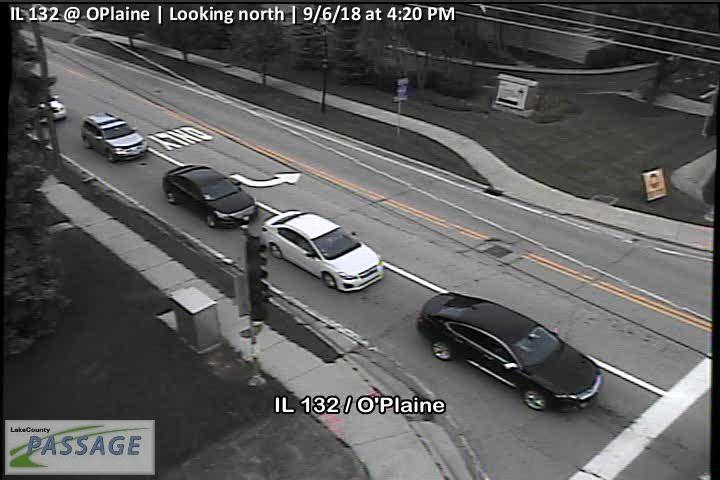SUV: (81, 112, 147, 163)
Sedan: (416, 292, 602, 412), (259, 210, 383, 292), (163, 164, 259, 229)
